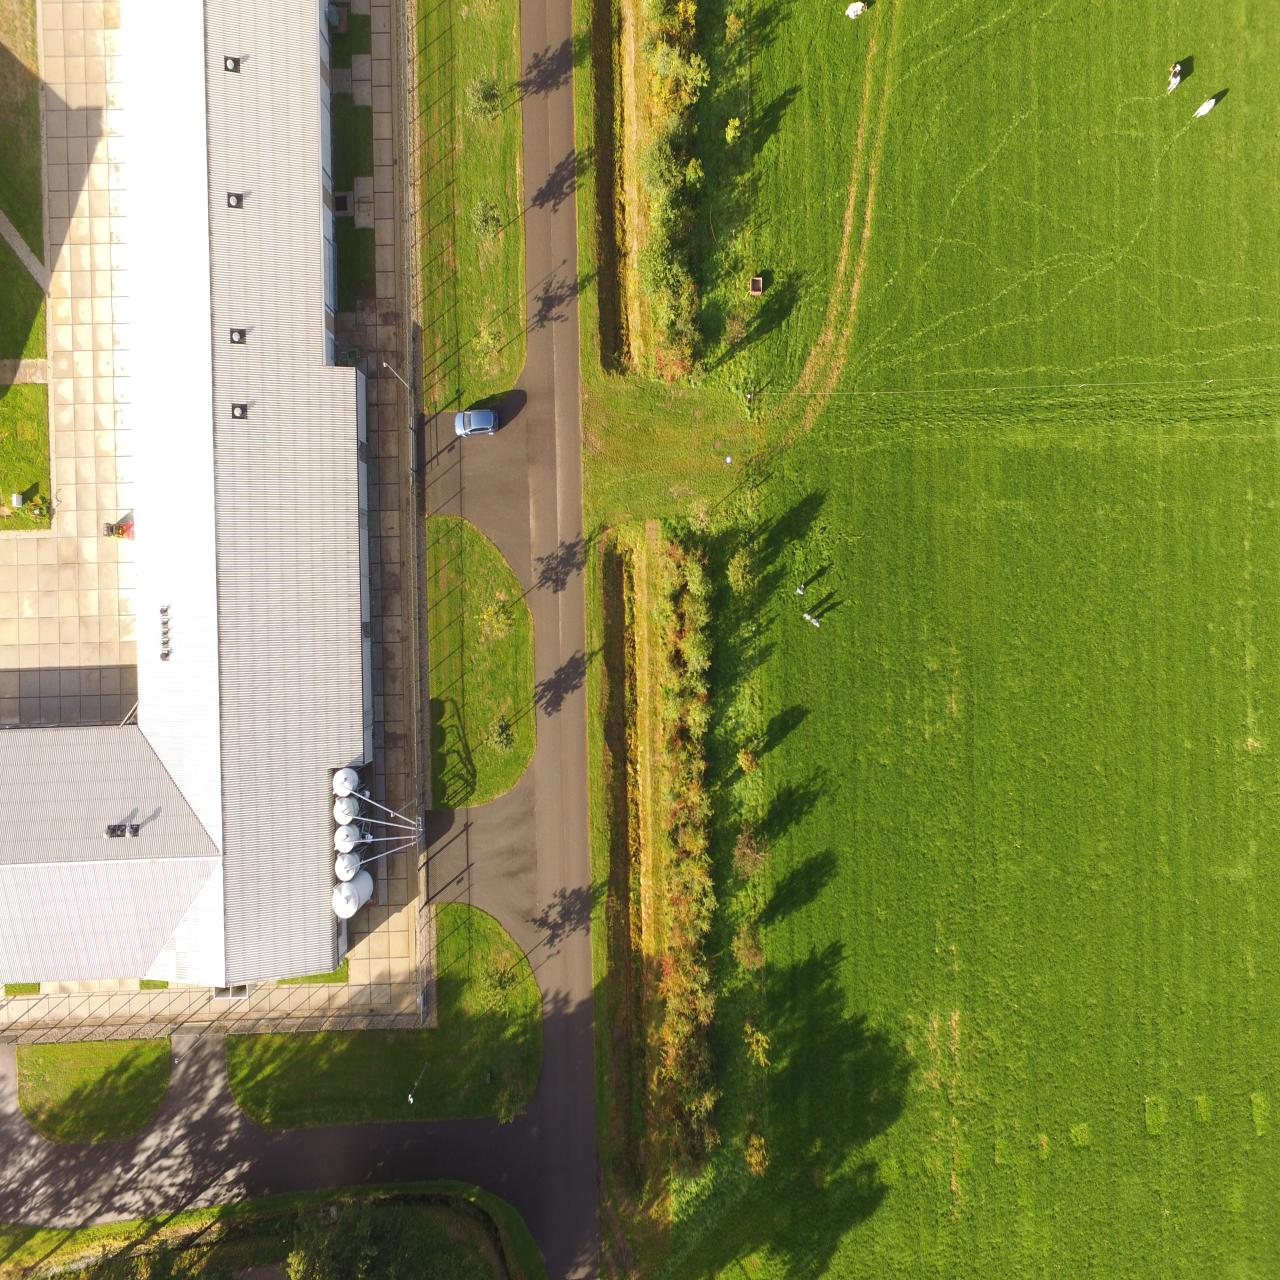cow: (839, 0, 871, 23), (1192, 94, 1214, 121), (1166, 57, 1180, 96)
